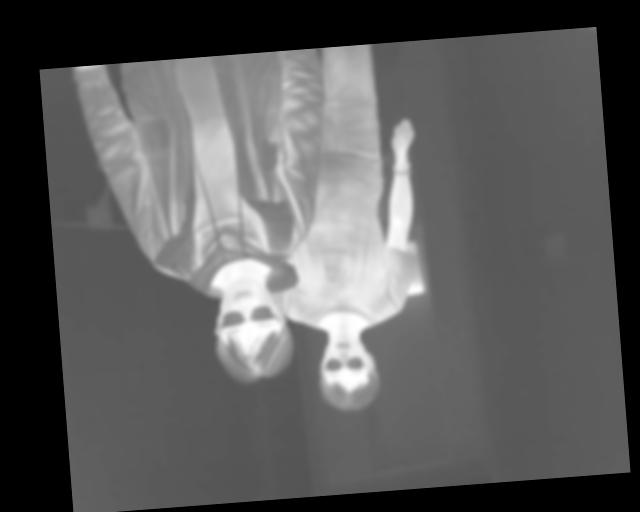face: (210, 275, 297, 387), (314, 328, 381, 414)
